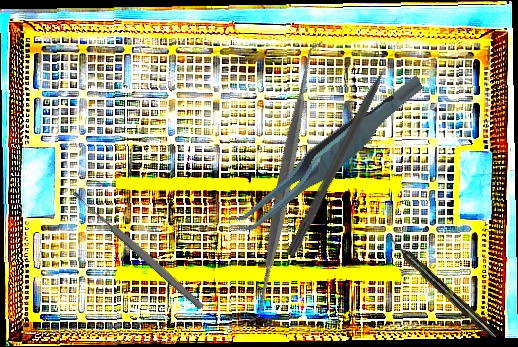Handpiece: (386, 234, 500, 342)
Pusher: (284, 41, 405, 260)
Spatula Surgical: (147, 40, 424, 323)
Surgical Spoon: (70, 188, 206, 312)
Tissue Forceps: (206, 73, 447, 239)
